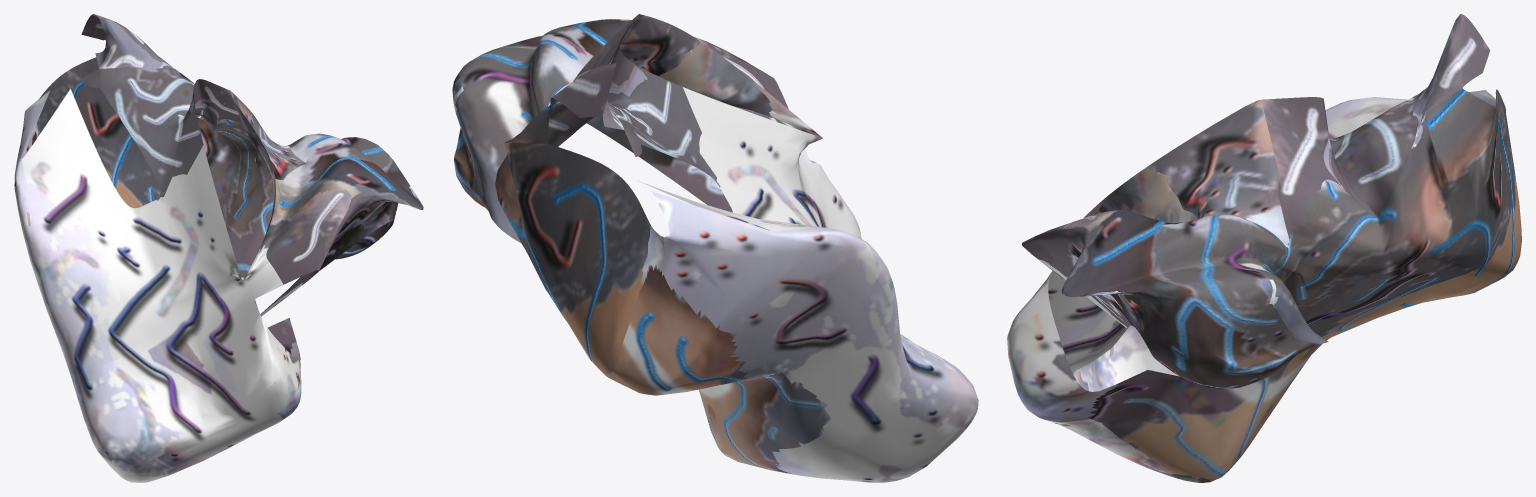
The model's file is sculpture_3.fbx.
3 views of the same model, side by side, from view 1: azimuth 30°, elevation 25°; view 2: azimuth 150°, elevation 25°; view 3: azimuth 270°, elevation 25° (orthographic). The views are drawn at different scales.
Parts seen in each view (by area): view 1: MeshBody1; view 2: MeshBody1; view 3: MeshBody1.
Boxes of the visible parts, <box> form: MeshBody1: <box>14,14,423,482</box>; MeshBody1: <box>452,14,978,482</box>; MeshBody1: <box>1007,14,1521,482</box>.
Size of the model in its own units: 14.07 by 14.73 by 14.51.
1 material, 1 textured.
